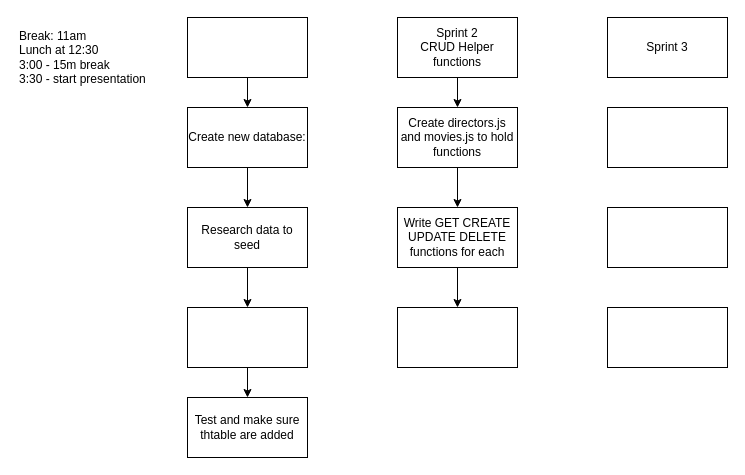
Some shapes in this 745 by 475 pixel diagram are drawn without their labels. Here are the shapes that lost their labels. From the top down, the centre of each, then its label:
At point 247,47: "Sprint 1 Set up database".
At point 247,337: "Create 'reset_databse' file".
At point 457,337: "Populate".
